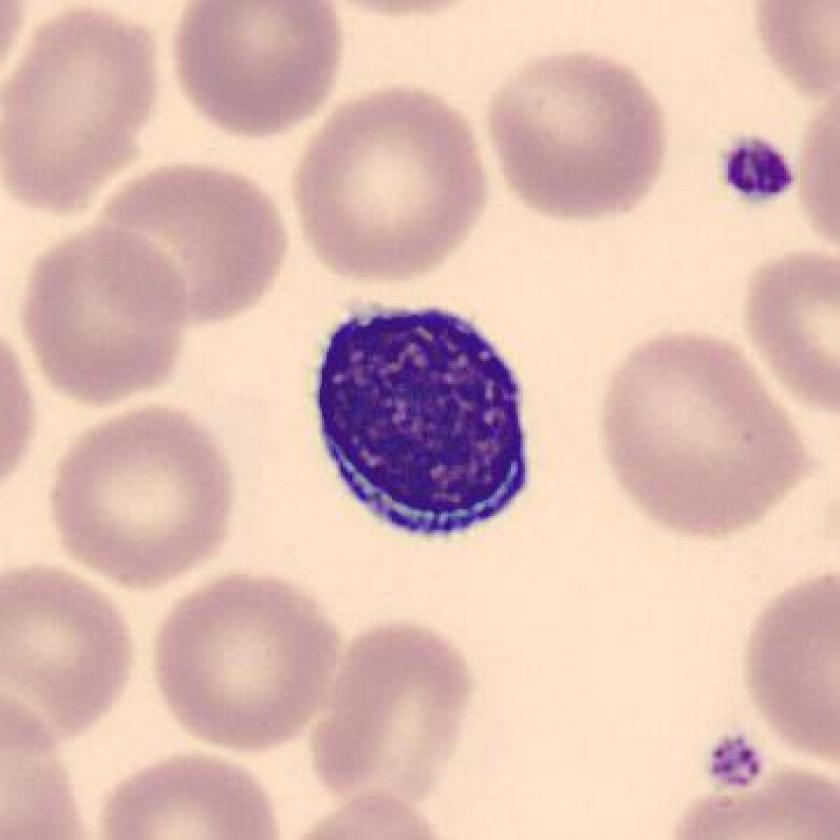lymphocyte: (302, 290, 547, 561)
platelets: (718, 134, 799, 204), (703, 722, 771, 796)
